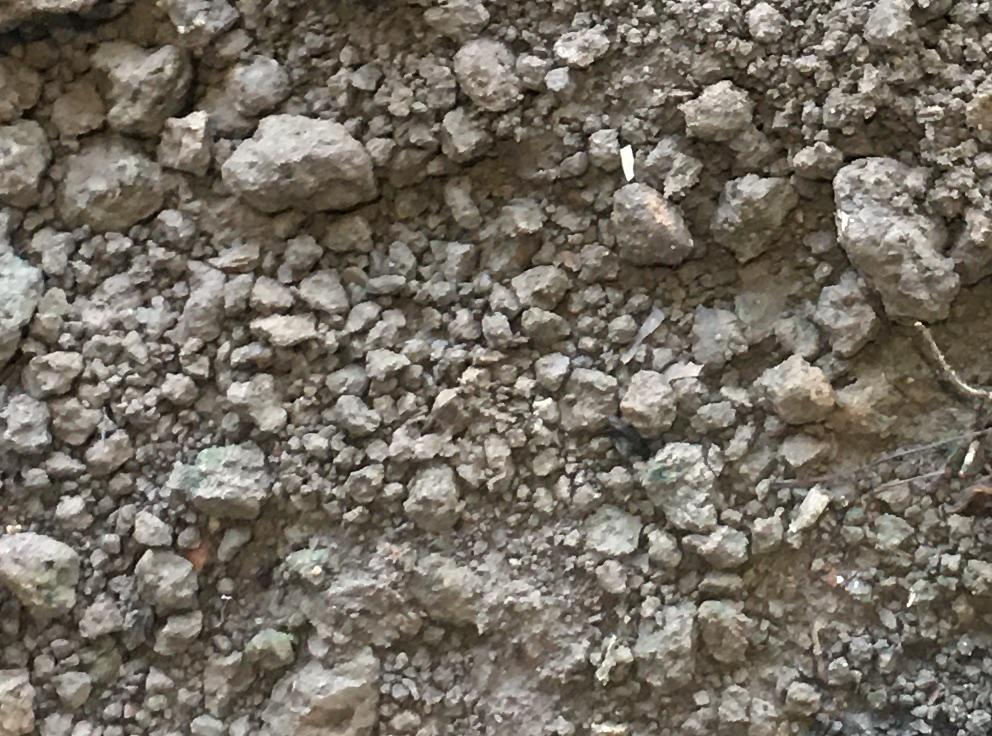block: (831, 155, 961, 335), (217, 113, 382, 217), (47, 140, 164, 230), (87, 40, 192, 135), (607, 185, 694, 272), (1, 530, 78, 625)
